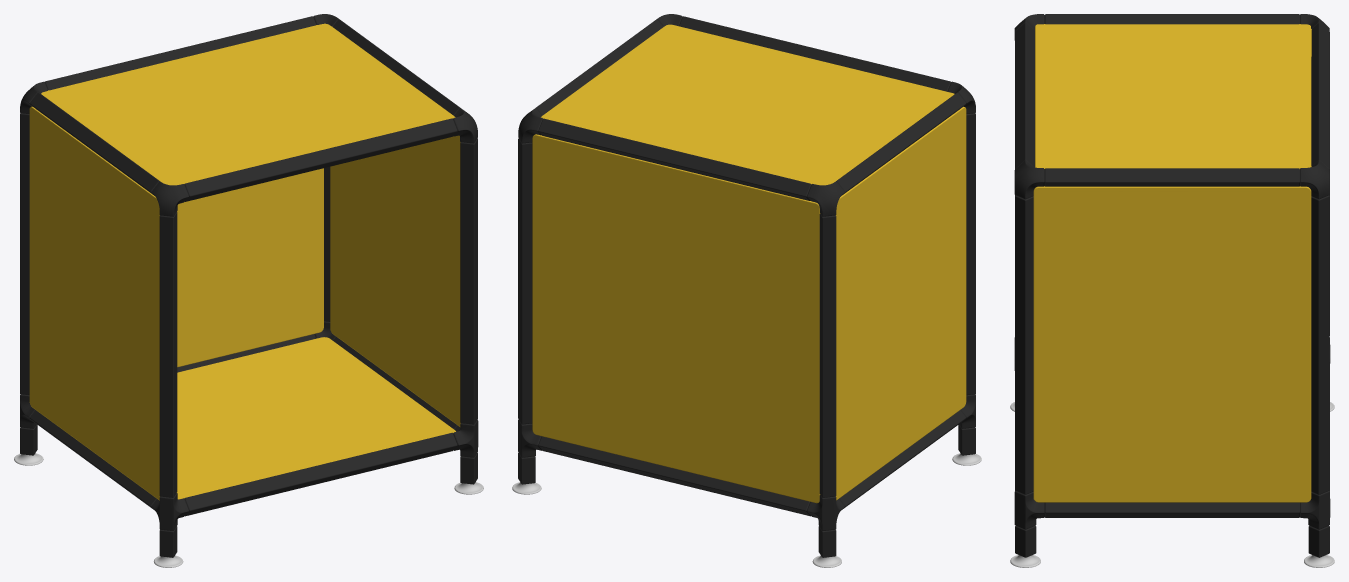
3 renders of one model, left to right at view 1: azimuth 30°, elevation 25°; view 2: azimuth 150°, elevation 25°; view 3: azimuth 270°, elevation 25°, orthographic. The views are drawn at different scales.
Parts seen in each view (by area): view 1: 420x329x420; view 2: 420x329x420; view 3: 420x329x420.
Boxes of the visible parts, box(x1,y1,x2,y2) form: 420x329x420: box(14, 14, 483, 567); 420x329x420: box(512, 14, 981, 567); 420x329x420: box(1010, 14, 1334, 567).
Bounding box in the file's own units: 0.5099 × 0.5593 × 0.4182.
